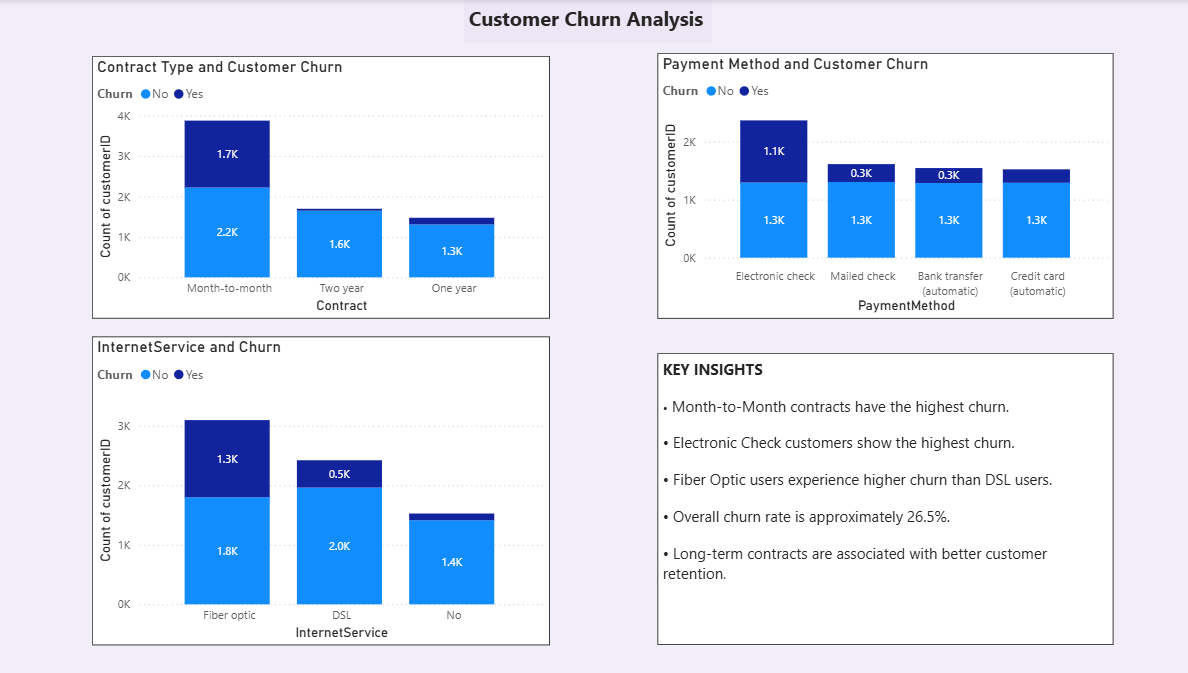

The dashboard page shown, as its layout file describes it:
{"tool":"powerbi","page":{"name":"Customer Churn Analysis","canvas":[1280,720],"ordinal":1},"visuals":[{"type":"columnChart","title":"Contract Type and Customer Churn","fields":{"Category":["WA_Fn-UseC_-Telco-Customer-Churn.Contract"],"Y":["CountNonNull(WA_Fn-UseC_-Telco-Customer-Churn.customerID)"],"Series":["WA_Fn-UseC_-Telco-Customer-Churn.Churn"]},"box":[105.8,60.9,489,280.6],"z":0},{"type":"columnChart","title":" InternetService and Churn","fields":{"Category":["WA_Fn-UseC_-Telco-Customer-Churn.InternetService"],"Y":["CountNonNull(WA_Fn-UseC_-Telco-Customer-Churn.customerID)"],"Series":["WA_Fn-UseC_-Telco-Customer-Churn.Churn"]},"box":[105.8,360.8,489,330.3],"z":1000},{"type":"columnChart","title":"  Payment Method and Customer Churn","fields":{"Y":["CountNonNull(WA_Fn-UseC_-Telco-Customer-Churn.customerID)"],"Category":["WA_Fn-UseC_-Telco-Customer-Churn.PaymentMethod"],"Series":["WA_Fn-UseC_-Telco-Customer-Churn.Churn"]},"box":[710.3,57.7,487.4,283.8],"z":2000},{"type":"textbox","box":[503.5,0,264.6,46.5],"z":3000},{"type":"textbox","box":[710.3,378.4,487.4,312],"z":4000}]}

Visuals, with their boxes in screenshot pixels (x1, y1, x2, y2), scaled from the page's 1280x720 canvas onto the 1188x673 screenshot:
"Contract Type and Customer Churn" columnChart: [left=98, top=57, right=552, bottom=319]
" InternetService and Churn" columnChart: [left=98, top=337, right=552, bottom=646]
"  Payment Method and Customer Churn" columnChart: [left=659, top=54, right=1112, bottom=319]
textbox: [left=467, top=0, right=713, bottom=43]
textbox: [left=659, top=354, right=1112, bottom=645]
